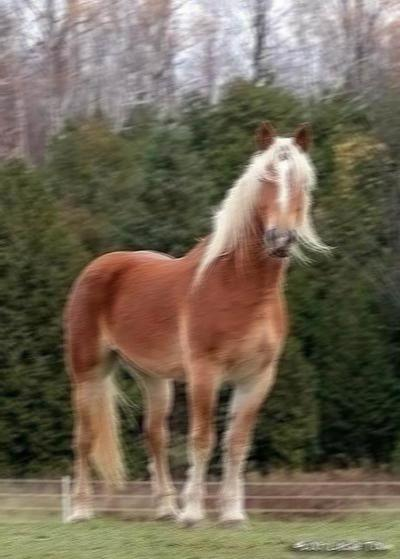horse: (61, 118, 336, 529)
